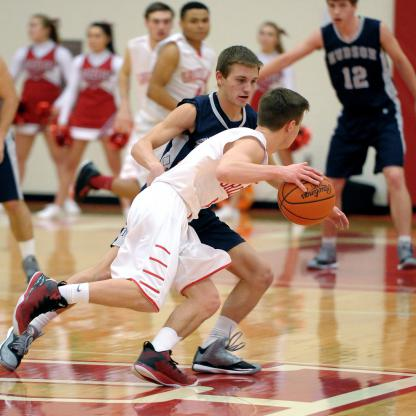Ball: (278, 172, 337, 225)
